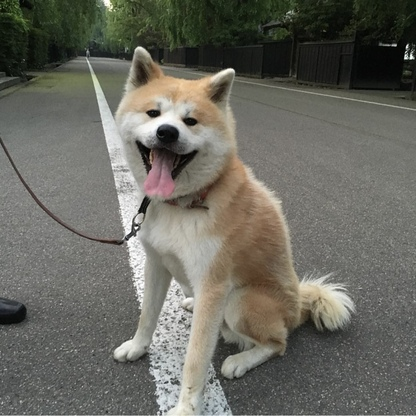akita: (104, 39, 360, 416)
